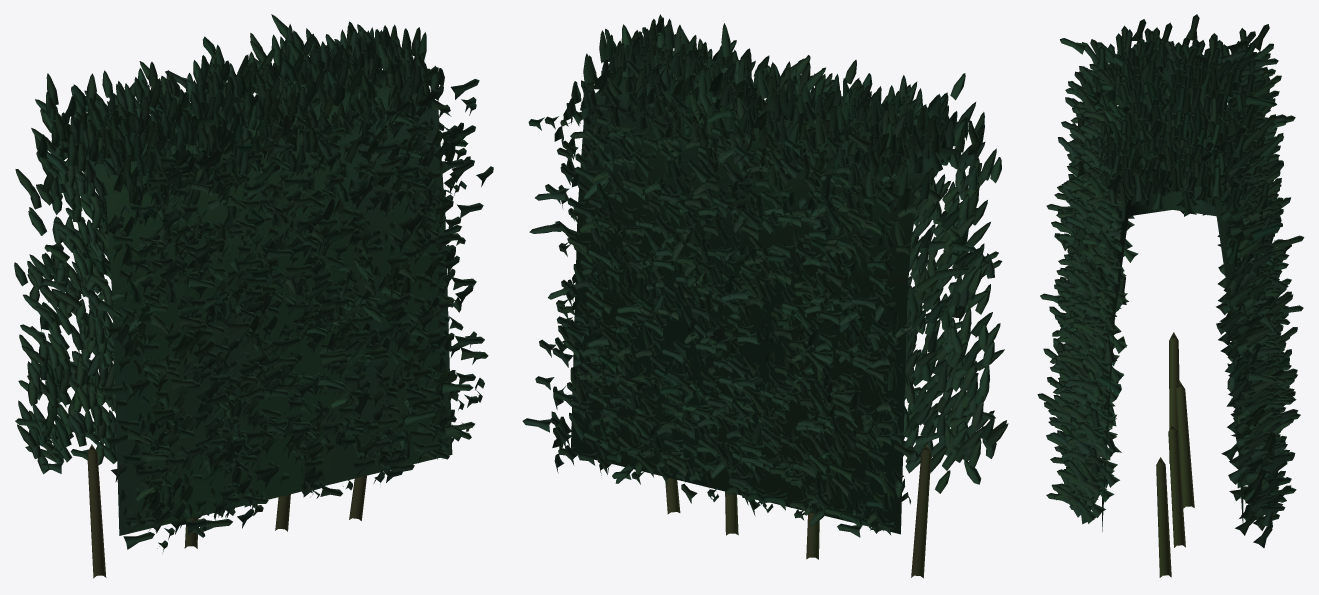
Rendered from SM_Tree_garden_hedge_4.glb.
3 views of the same model, side by side, from view 1: azimuth 30°, elevation 25°; view 2: azimuth 150°, elevation 25°; view 3: azimuth 270°, elevation 25° (orthographic). The views are drawn at different scales.
Parts seen in each view (by area): view 1: SM_Tree_garden_hedge_4; view 2: SM_Tree_garden_hedge_4; view 3: SM_Tree_garden_hedge_4.
Part boxes in pixels (<box>): SM_Tree_garden_hedge_4: <box>14,14,493,578</box>; SM_Tree_garden_hedge_4: <box>522,14,1008,578</box>; SM_Tree_garden_hedge_4: <box>1037,14,1304,577</box>.
Bounding box in the file's own units: 1.72 × 2.07 × 1.11.
